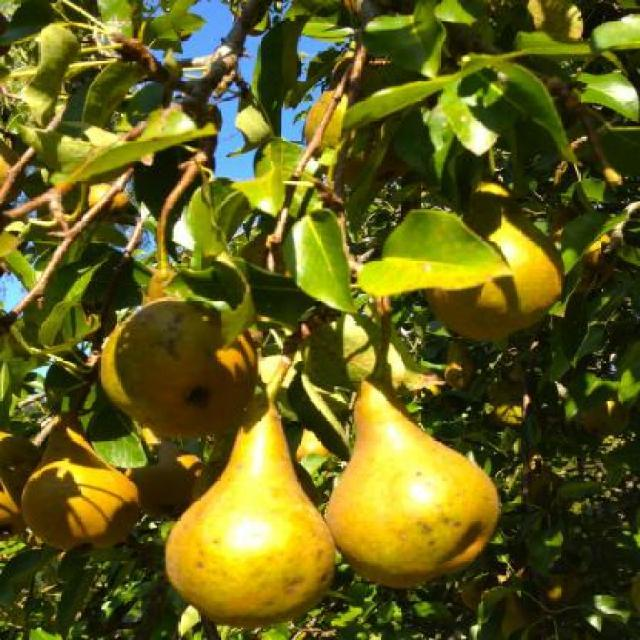Pear: (162, 392, 336, 630), (323, 368, 500, 589), (94, 294, 266, 436), (422, 179, 566, 344), (22, 408, 140, 552), (300, 85, 426, 183), (125, 444, 232, 516), (556, 219, 607, 299), (0, 440, 37, 546), (76, 182, 132, 220), (442, 333, 486, 381), (0, 125, 26, 198), (493, 382, 527, 424), (0, 430, 32, 466)
